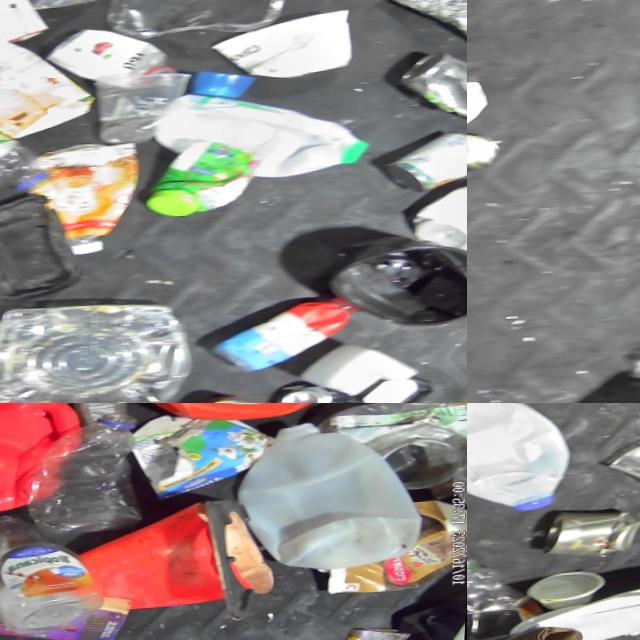can: (550, 506, 640, 566), (409, 54, 467, 128), (392, 136, 467, 192), (281, 382, 376, 403)
milk_jug: (238, 421, 427, 571), (162, 86, 376, 187), (467, 403, 578, 522), (67, 403, 138, 422)
non_white_jug: (34, 143, 151, 260), (0, 403, 82, 528), (214, 304, 359, 368)
plastic_bottle: (37, 414, 156, 533), (467, 557, 562, 640), (0, 96, 61, 201)
